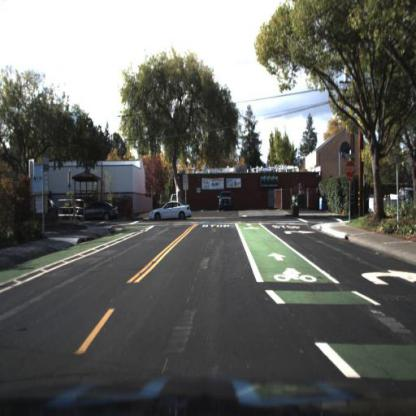car: (368, 185, 416, 226), (150, 199, 194, 226), (71, 199, 120, 221), (216, 189, 237, 217)
